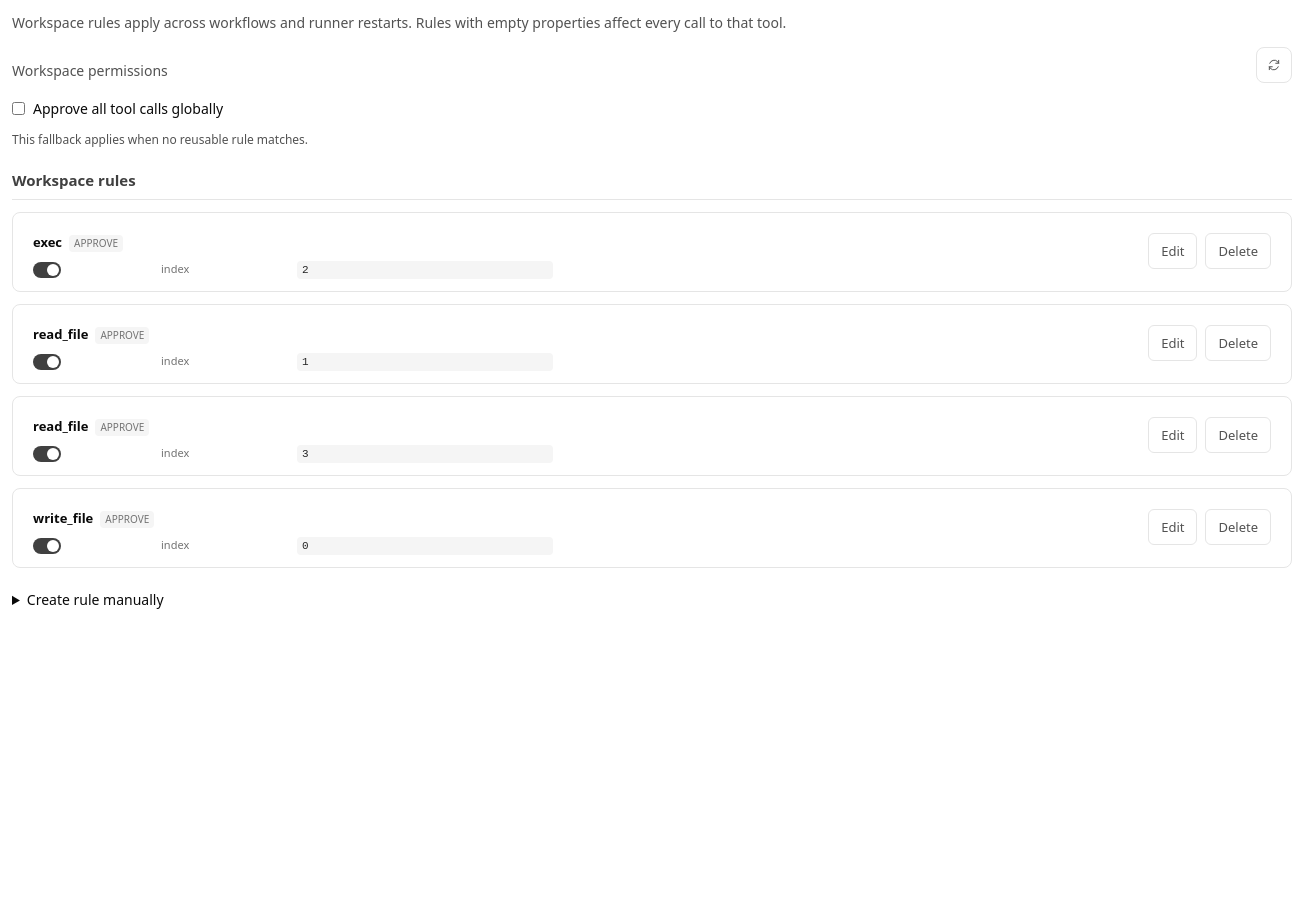
workspace permissions sort rules by tool name
The image size is (1304, 900).
Expected: the text "write_file" is shown, [33,509,93,529]
Click the button named "Refresh permissions".
click(1274, 65)  # box [1256,47,1292,83]
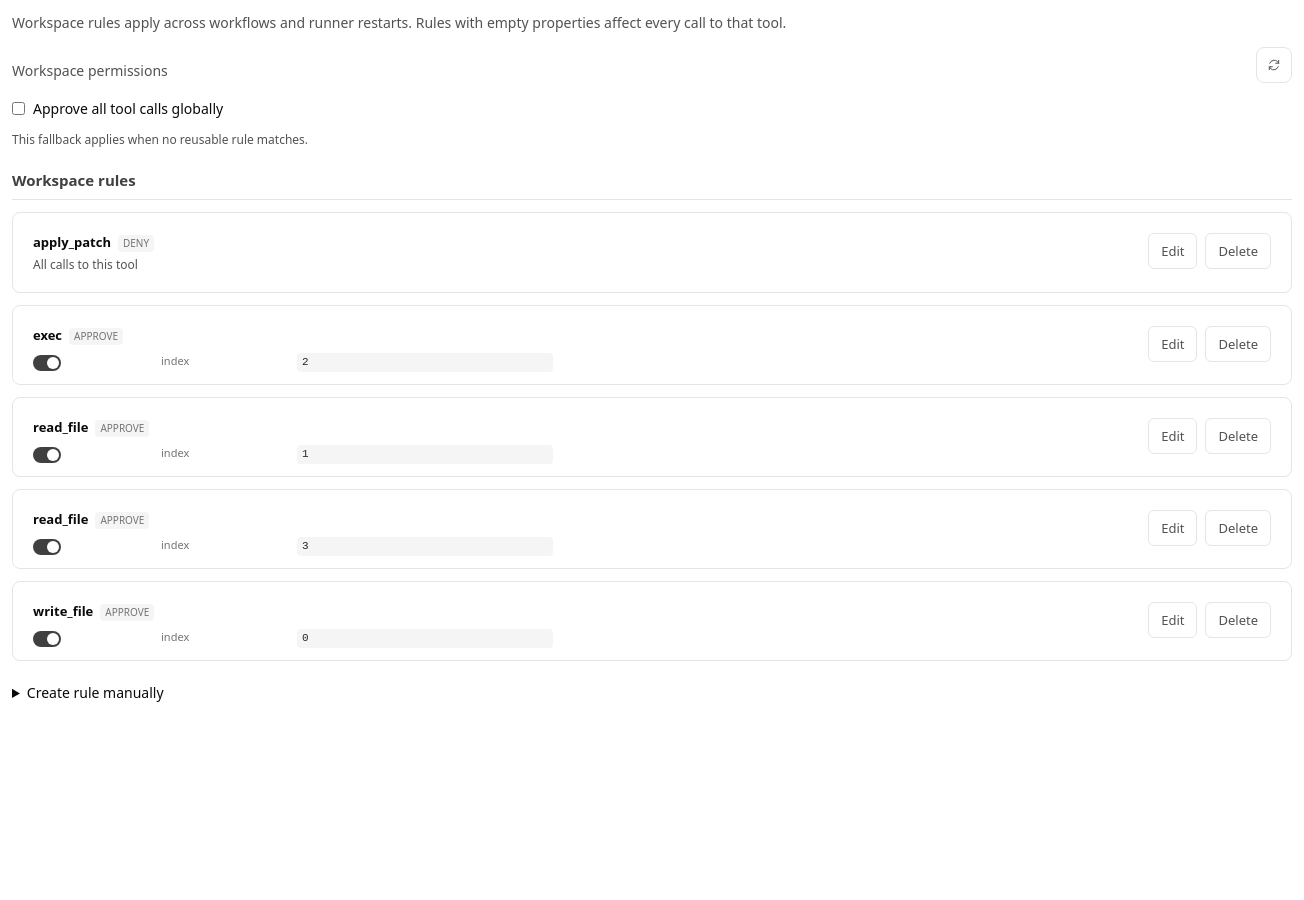
Now the text "apply_patch" is shown, box [33,233,111,253]
